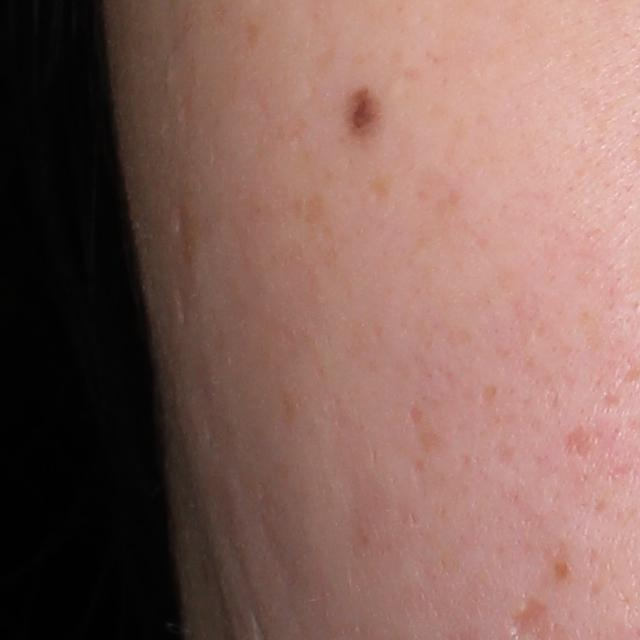atrophic_scar: (558, 427, 593, 457)
